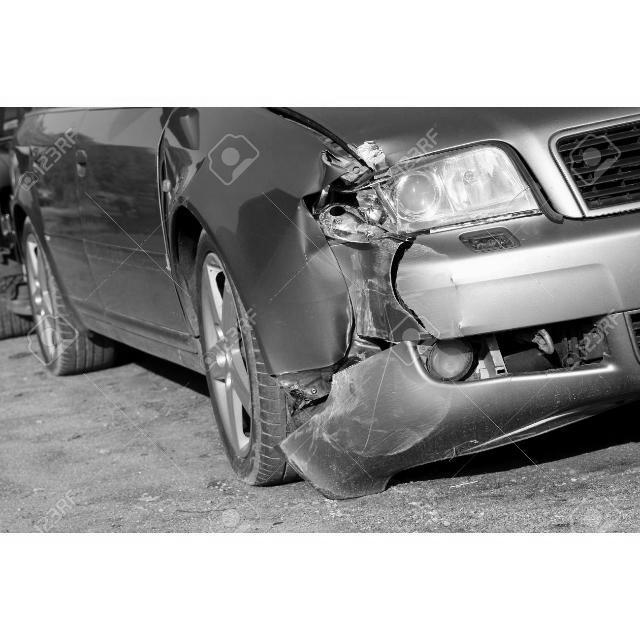Headlight-damage: (318, 141, 421, 250)
bonnet-dent: (275, 108, 470, 165)
fender-dent: (294, 237, 409, 361), (154, 108, 224, 229)
front-bumper-dent: (275, 326, 571, 479)
